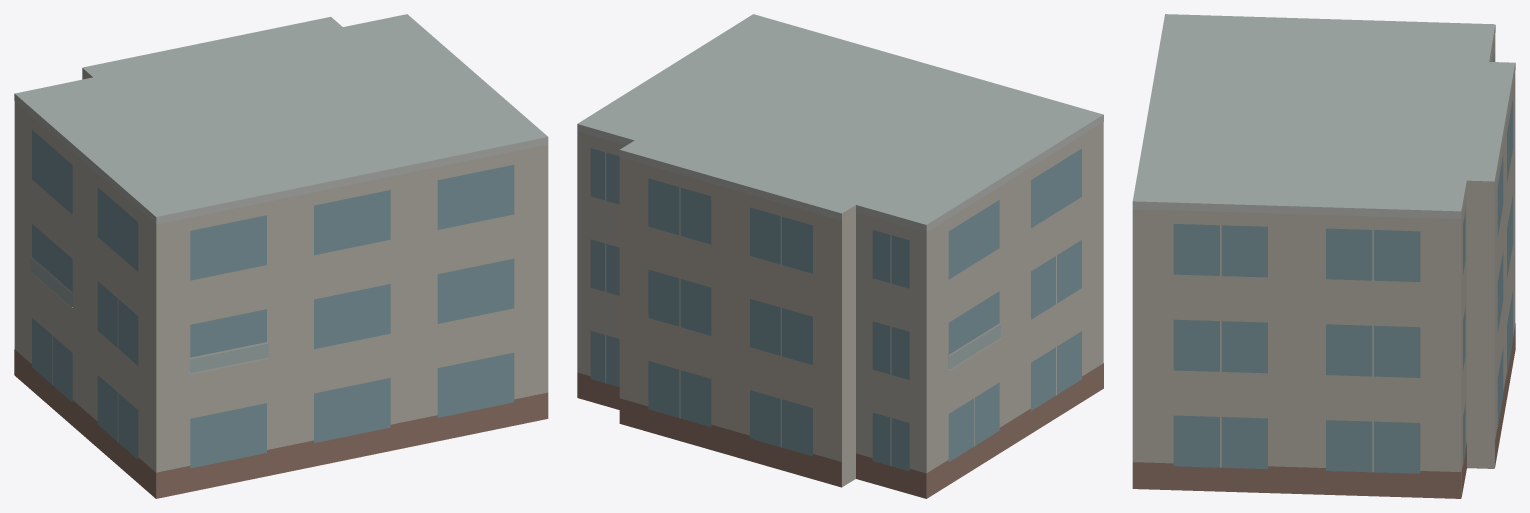
File: survey-upis-32799658.glb
3 views of the same model, side by side, from view 1: azimuth 30°, elevation 25°; view 2: azimuth 150°, elevation 25°; view 3: azimuth 270°, elevation 25° (orthographic). The views are drawn at different scales.
Parts seen in each view (by area): view 1: survey-upis-32799658.tmp; view 2: survey-upis-32799658.tmp; view 3: survey-upis-32799658.tmp.
Part boxes in pixels (x1,y1,x2,y2): survey-upis-32799658.tmp: (14, 14, 548, 498); survey-upis-32799658.tmp: (577, 14, 1103, 498); survey-upis-32799658.tmp: (1132, 14, 1515, 498).
Bounding box in the file's own units: 13.48 × 9.15 × 11.05.
